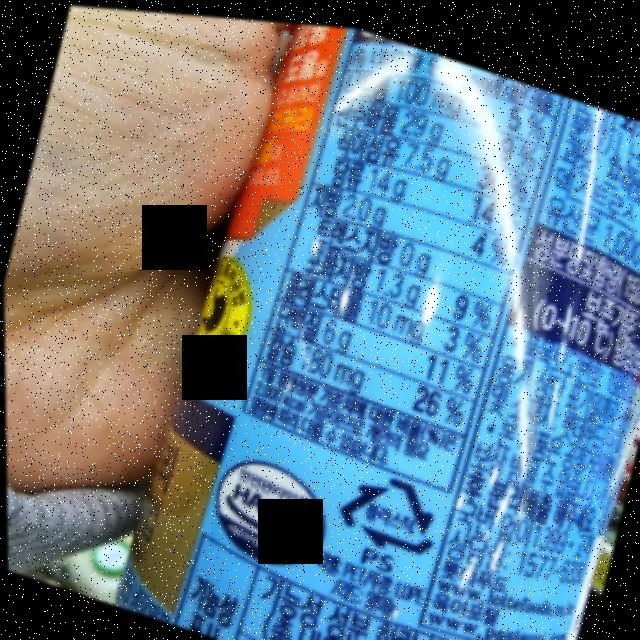Plastic: (330, 453, 447, 560)
